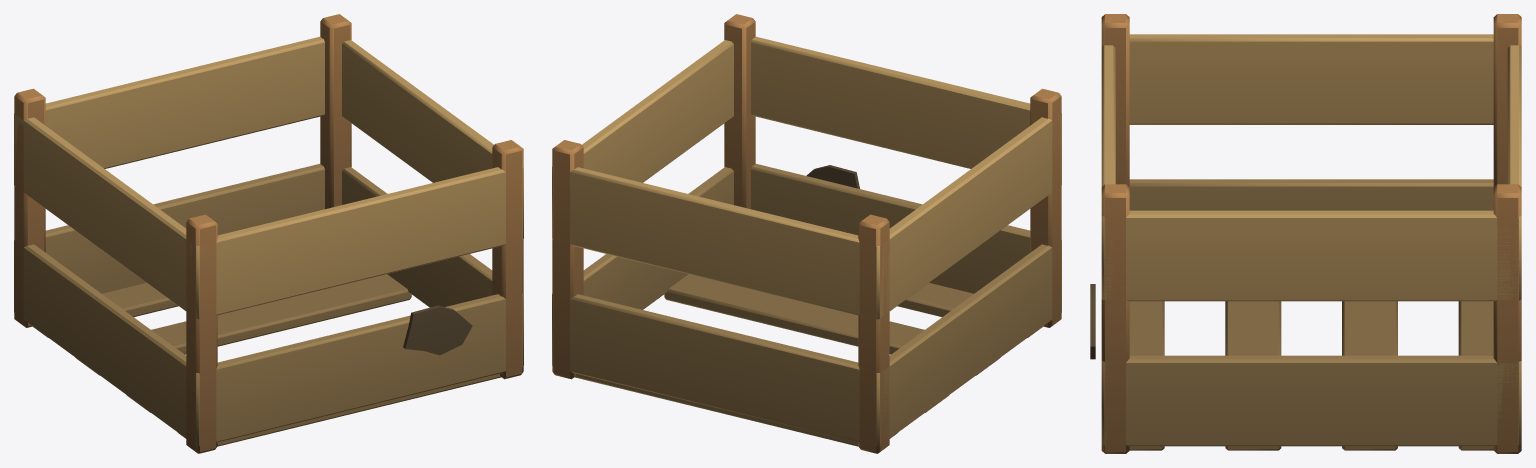
The model's file is 35_cagette_vide.fbx.
3 renders of one model, left to right at view 1: azimuth 30°, elevation 25°; view 2: azimuth 150°, elevation 25°; view 3: azimuth 270°, elevation 25°, orthographic. The views are drawn at different scales.
Visible parts, largest first — view 1: Cagette; view 2: Cagette; view 3: Cagette.
Boxes of the visible parts, x1,y1,x2,y2 form: Cagette: [14, 14, 523, 453]; Cagette: [552, 14, 1061, 453]; Cagette: [1090, 14, 1521, 453].
Bounding box in the file's own units: 0.672 × 0.448 × 0.672.
1 material, 1 textured.
